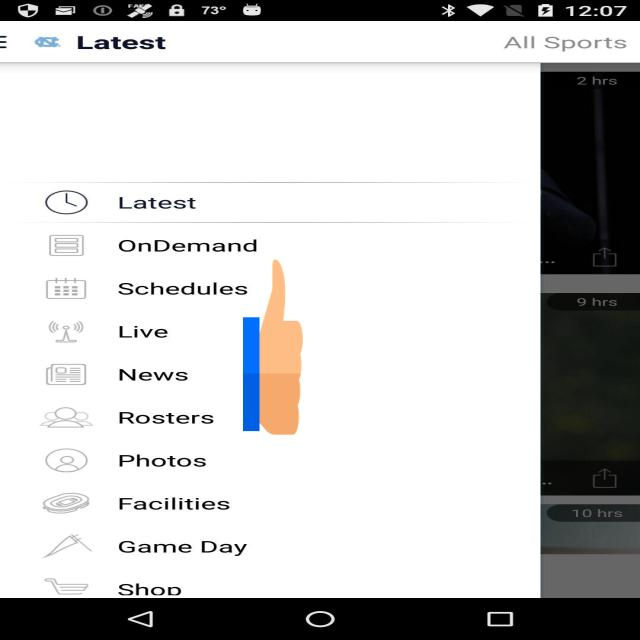privacy zuckering: (243, 255, 303, 439)
